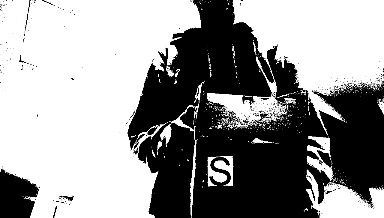S: (207, 156, 234, 186)
